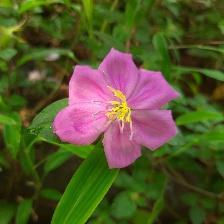malabar melastome: (54, 50, 181, 170)
